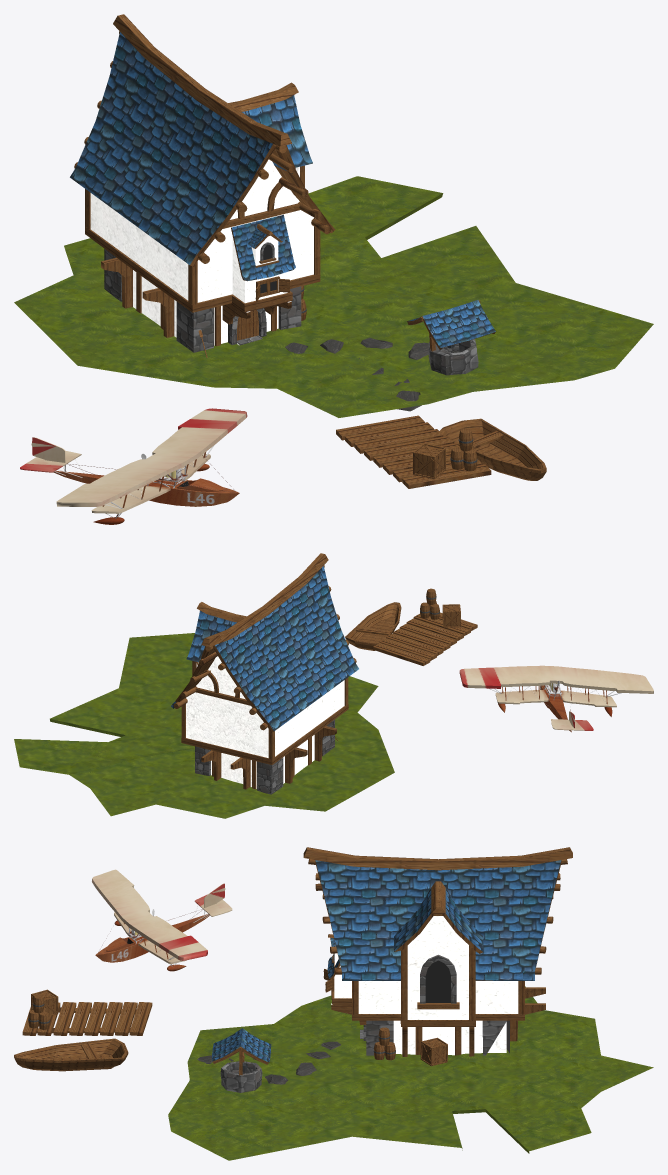
Rendered from working.glb.
3 views of the same model, one above another, from view 1: azimuth 30°, elevation 25°; view 2: azimuth 150°, elevation 25°; view 3: azimuth 270°, elevation 25° (orthographic). The views are drawn at different scales.
Parts seen in each view (by area): view 1: polySurface32, polySurface10, Body, well, pCube22, pCube35, pCube15, pCube10, pCube9, pCube8, pCube11; view 2: polySurface10, polySurface32, Body, pCube22, pCube8, pCube35, pCube13, pCube11, pCube12, pCube10, pCube9; view 3: polySurface32, polySurface10, Body, pCube22, well, pCube36, pCube8, pCube11, pCube10, pCube13, pCube12, pCube9.
Boxes of the visible parts, x1,y1,x2,y2 form: polySurface32: (14,176,653,417); polySurface10: (70,14,335,352); Body: (20,408,247,524); well: (407,300,495,375); pCube22: (439,418,546,480); pCube35: (413,443,445,479); pCube15: (402,464,491,488); pCube10: (354,429,443,453); pCube9: (345,422,433,446); pCube8: (336,415,424,440); pCube11: (364,436,452,460); polySurface10: (171,553,358,794); polySurface32: (14,633,394,818); Body: (459,665,653,732); pCube22: (345,602,401,650); pCube8: (373,643,430,665); pCube35: (442,604,460,627); pCube13: (406,618,463,641); pCube11: (393,628,450,651); pCube12: (399,623,456,646); pCube10: (386,633,443,655); pCube9: (379,638,436,660); polySurface32: (168,986,653,1160); polySurface10: (303,847,572,1056); Body: (92,869,232,971); pCube22: (14,1038,128,1071); well: (212,1028,271,1092); pCube36: (420,1037,447,1066); pCube8: (129,1002,152,1035); pCube11: (84,1002,107,1035); pCube10: (100,1002,122,1035); pCube13: (53,1002,76,1035); pCube12: (69,1002,91,1035); pCube9: (115,1002,137,1035).
Size of the model in its own units: 20.71 by 7.11 by 21.39.
11 materials, 9 textured.
